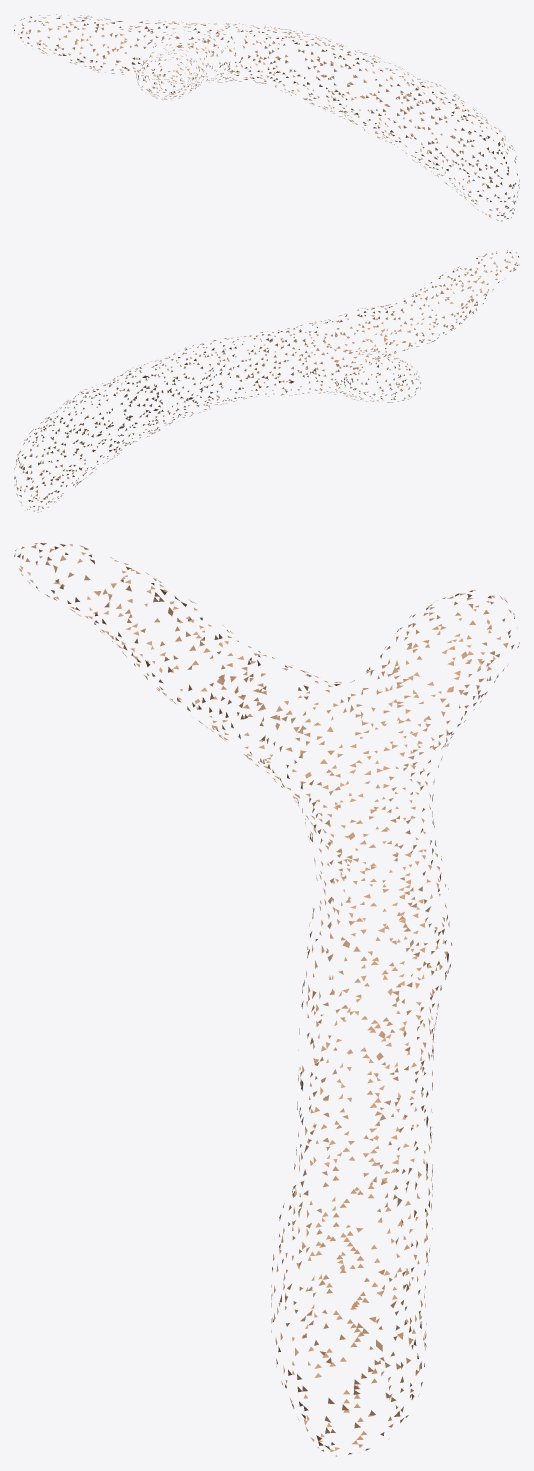
Rendered from morph_005.glb.
The picture shows the model from 3 angles, top to bottom: view 1: azimuth 30°, elevation 25°; view 2: azimuth 150°, elevation 25°; view 3: azimuth 270°, elevation 25°; orthographic projection. The views are drawn at different scales.
Size of the model in its own units: 99.81 by 66.09 by 54.12.
